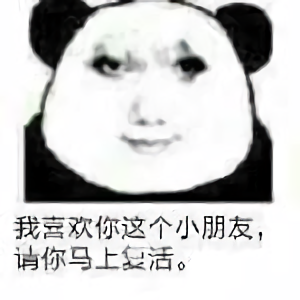dragon: (84, 41, 218, 157)
